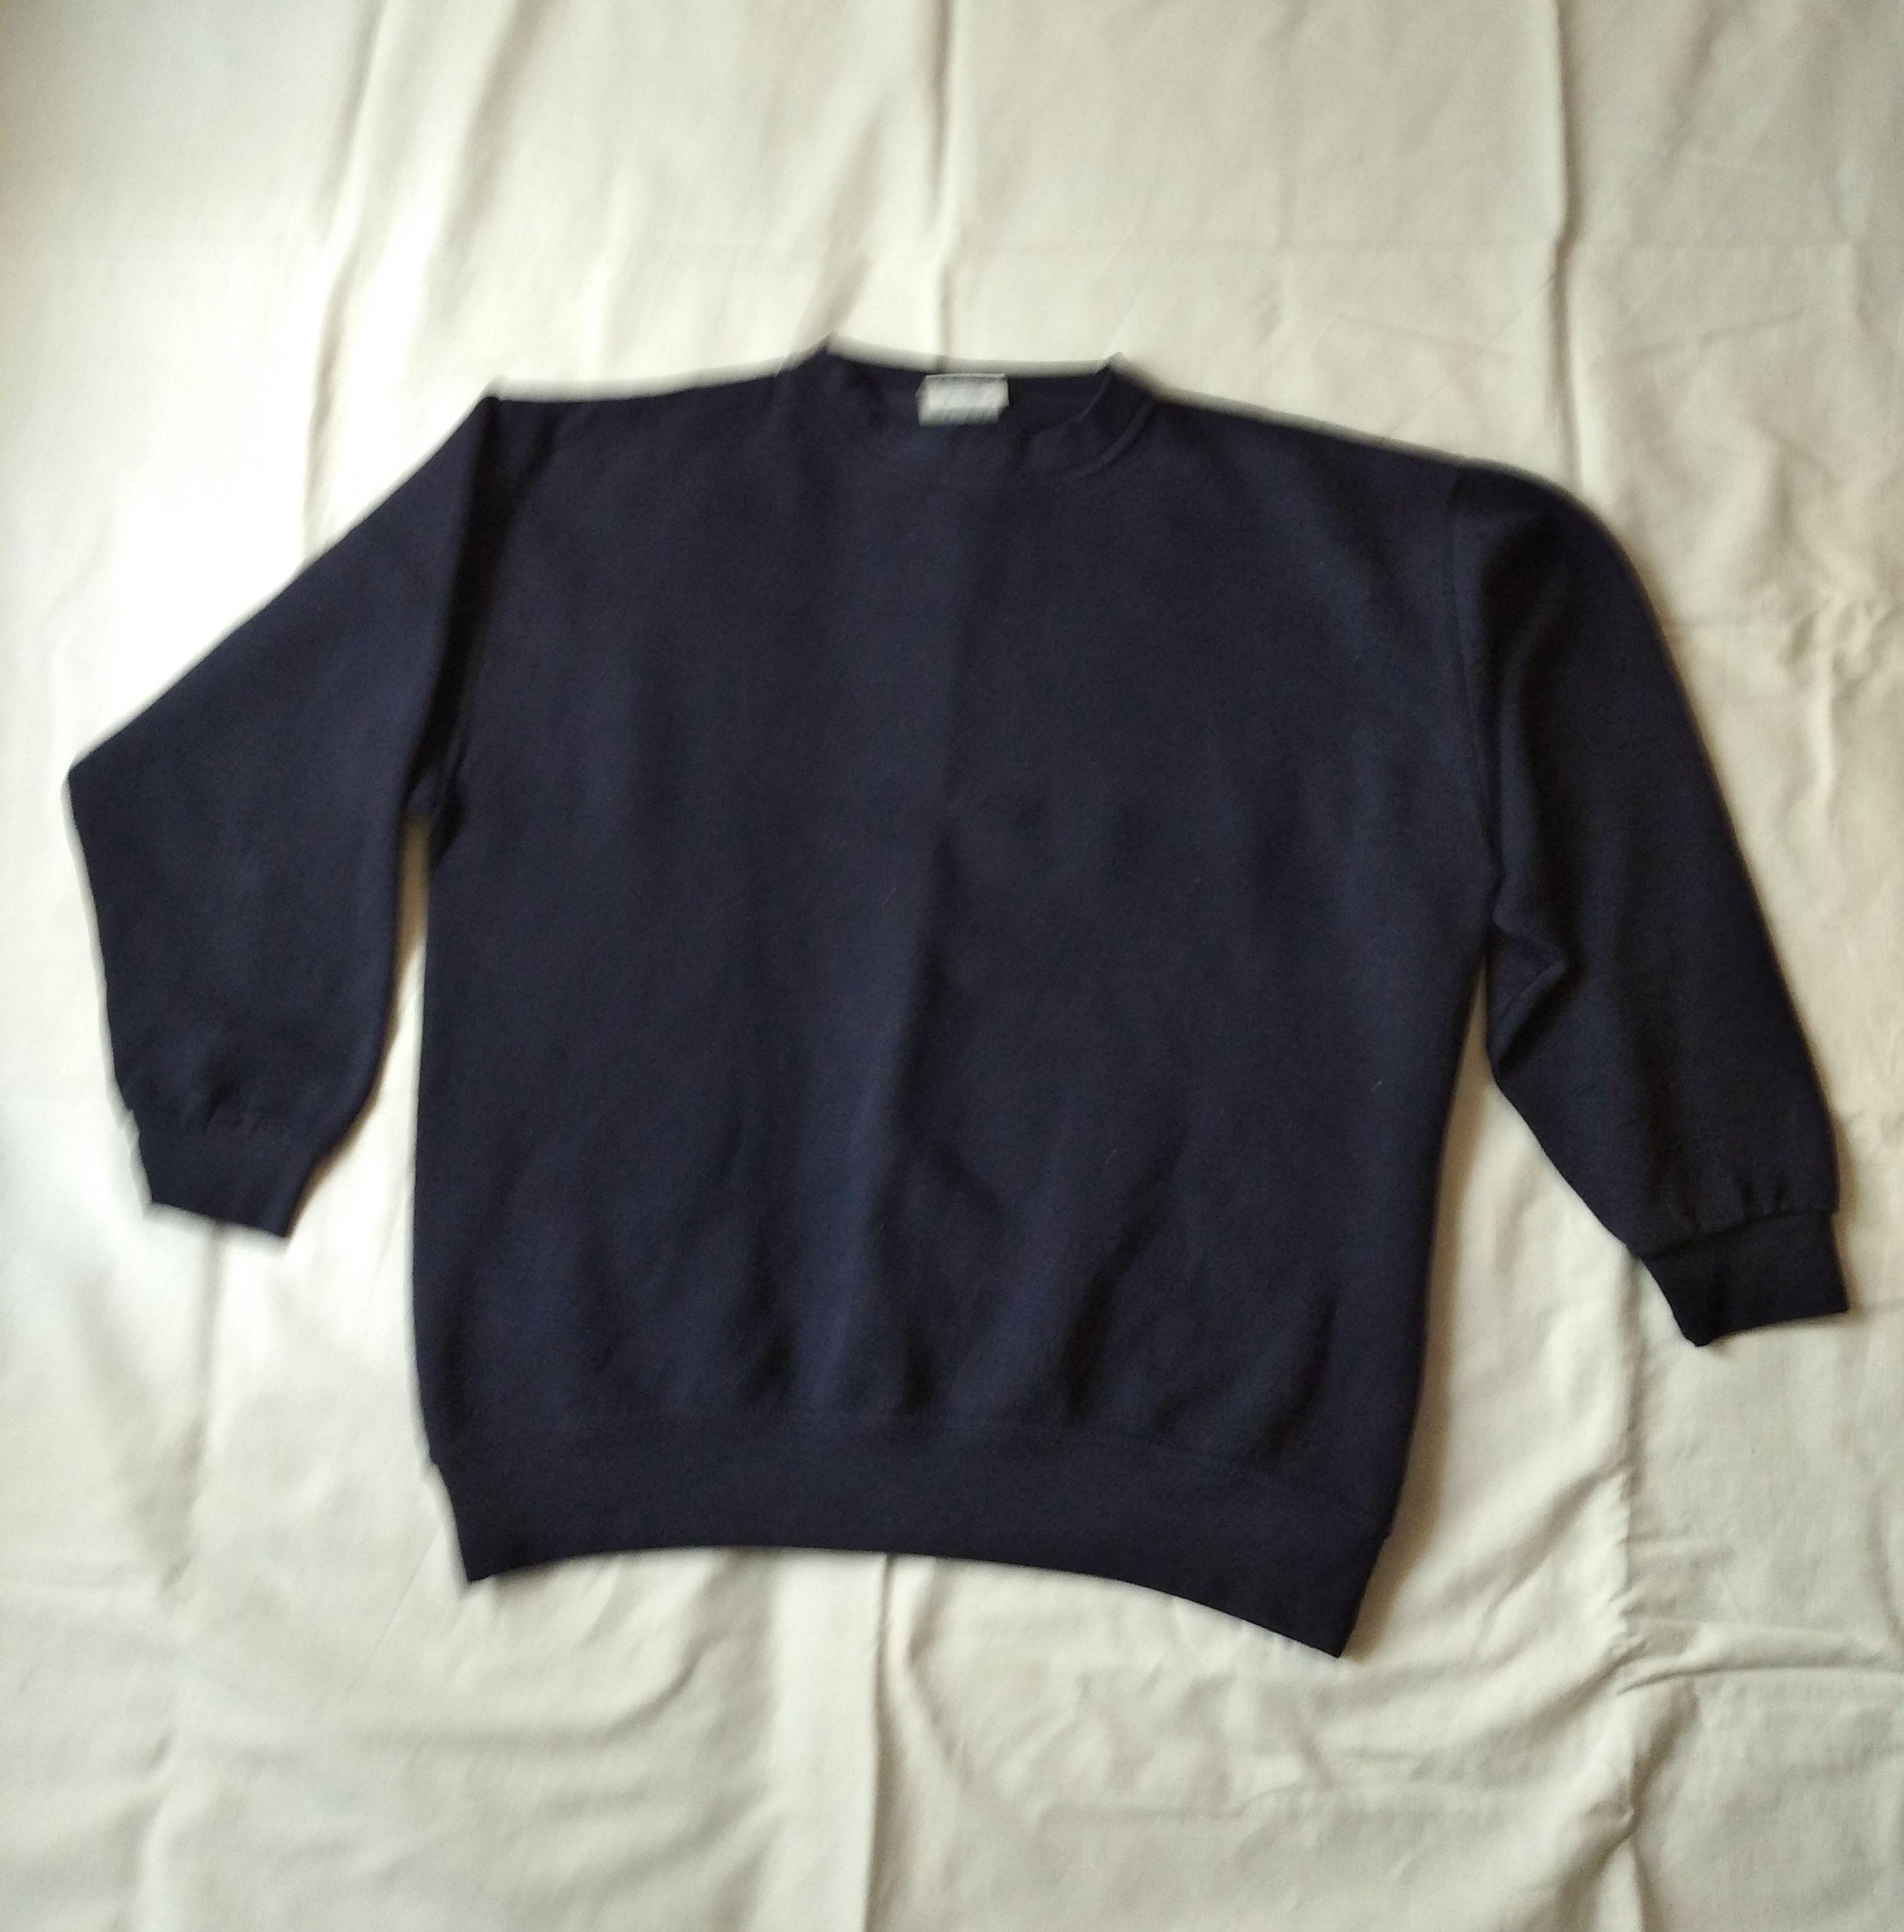clothes: (3, 328, 1857, 1679)
